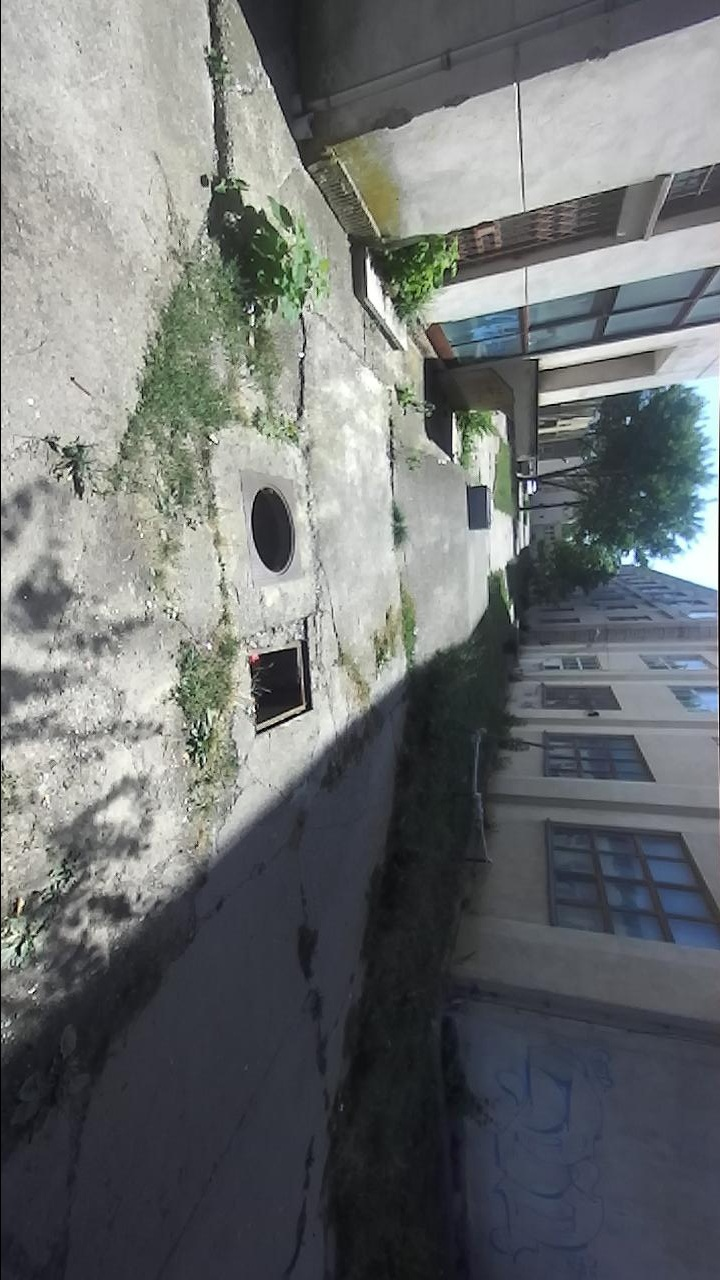drain: (249, 635, 316, 743), (250, 477, 299, 582)
